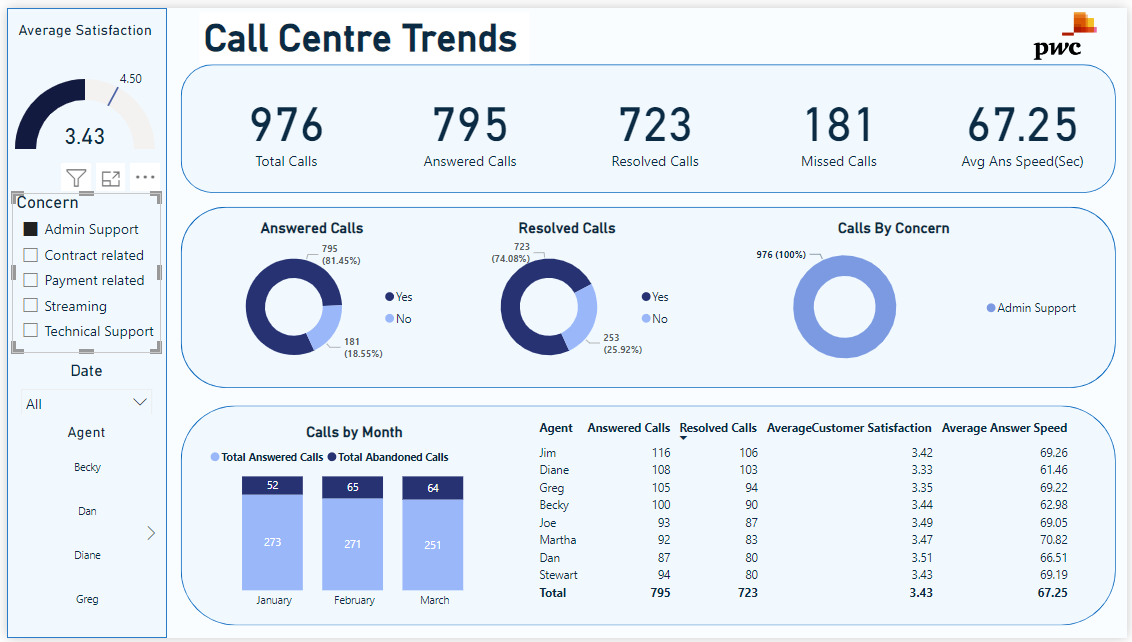

What the dashboard file says about the page in this screenshot:
{"tool":"powerbi","page":{"name":"Call Center Trend Analysis","canvas":[1280,720],"ordinal":1},"visuals":[{"type":"shape","box":[198.6,454.3,1068.6,251.4],"z":0},{"type":"shape","box":[198.6,64.3,1068.6,147.1],"z":1000},{"type":"shape","box":[198.6,227.1,1068.6,207.1],"z":2000},{"type":"shape","box":[0,0,182.9,720],"z":3000},{"type":"textbox","box":[220,4.3,377.1,60],"z":4000},{"type":"image","box":[1161.4,0,95.7,64.3],"z":5000},{"type":"gauge","title":"Average Satisfaction","fields":{"Y":["KPI.Overall Customer Satisfaction"],"TargetValue":["KPI.Target Value"]},"box":[4.3,14.3,170,184.3],"z":6000},{"type":"card","fields":{"Values":["KPI.Total Calls"]},"box":[241.4,75.7,155.7,121.4],"z":7000},{"type":"card","fields":{"Values":["KPI.Total Answered Calls"]},"box":[451.8,75.7,155.7,121.4],"z":8000},{"type":"card","fields":{"Values":["KPI.Total Resolved Calls"]},"box":[662.1,75.7,155.7,121.4],"z":9000},{"type":"card","fields":{"Values":["KPI.Total Abandoned Calls"]},"box":[872.5,75.7,155.7,121.4],"z":10000},{"type":"card","fields":{"Values":["KPI.Average Answer Speed"]},"box":[1082.9,75.7,155.7,121.4],"z":11000},{"type":"tableEx","fields":{"Values":["Call-Center-Dataset.Agent","KPI.Total Answered Calls","KPI.Total Resolved Calls","KPI.Overall Customer Satisfaction","KPI.Average Answer Speed"]},"box":[597.1,464.3,638.6,231.4],"z":12000},{"type":"donutChart","title":"Answered Calls","fields":{"Y":["KPI.Total Answered Calls","KPI.Total Abandoned Calls"]},"box":[220,241.4,257.1,181.4],"z":13000},{"type":"donutChart","title":"Resolved Calls","fields":{"Y":["KPI.Total Resolved Calls","KPI.Total Unresolved Calls"]},"box":[510,241.4,260,181.4],"z":14000},{"type":"hundredPercentStackedColumnChart","title":"Calls by Month","fields":{"Y":["KPI.Total Answered Calls","KPI.Total Abandoned Calls"],"Category":["Call-Center-Dataset.Date.Variation.Date Hierarchy.Month"]},"box":[227.1,474.3,340,221.4],"z":15000},{"type":"donutChart","title":"Calls By Concern","fields":{"Y":["KPI.Total Calls"],"Category":["Call-Center-Dataset.Topic"]},"box":[791.4,241.4,444.3,181.4],"z":16000},{"type":"slicer","title":"Concern","fields":{"Values":["Call-Center-Dataset.Topic"]},"box":[5.7,211.4,170,182.9],"z":17000},{"type":"slicer","title":"Date","fields":{"Values":["Call-Center-Dataset.Date.Variation.Date Hierarchy.Month","Call-Center-Dataset.Date.Variation.Date Hierarchy.Day"]},"box":[5.7,404.3,170,60],"z":18000},{"type":"slicer","title":"Agent","fields":{"Values":["Call-Center-Dataset.Agent"]},"box":[5.7,474.3,170,231.4],"z":19000}]}

Visuals, with their boxes on the page's 1280x720 design canvas (x1, y1, x2, y2). These are canvas units, not pixel positions in the 1132x642 screenshot, which may show the page scaled, cropped or inside an application window:
shape: rect(199, 454, 1267, 706)
shape: rect(199, 64, 1267, 211)
shape: rect(199, 227, 1267, 434)
shape: rect(0, 0, 183, 720)
textbox: rect(220, 4, 597, 64)
image: rect(1161, 0, 1257, 64)
"Average Satisfaction" gauge: rect(4, 14, 174, 199)
card - KPI.Total Calls: rect(241, 76, 397, 197)
card - KPI.Total Answered Calls: rect(452, 76, 608, 197)
card - KPI.Total Resolved Calls: rect(662, 76, 818, 197)
card - KPI.Total Abandoned Calls: rect(872, 76, 1028, 197)
card - KPI.Average Answer Speed: rect(1083, 76, 1239, 197)
tableEx - Call-Center-Dataset.Agent x KPI.Total Answered Calls: rect(597, 464, 1236, 696)
"Answered Calls" donutChart: rect(220, 241, 477, 423)
"Resolved Calls" donutChart: rect(510, 241, 770, 423)
"Calls by Month" hundredPercentStackedColumnChart: rect(227, 474, 567, 696)
"Calls By Concern" donutChart: rect(791, 241, 1236, 423)
"Concern" slicer: rect(6, 211, 176, 394)
"Date" slicer: rect(6, 404, 176, 464)
"Agent" slicer: rect(6, 474, 176, 706)
